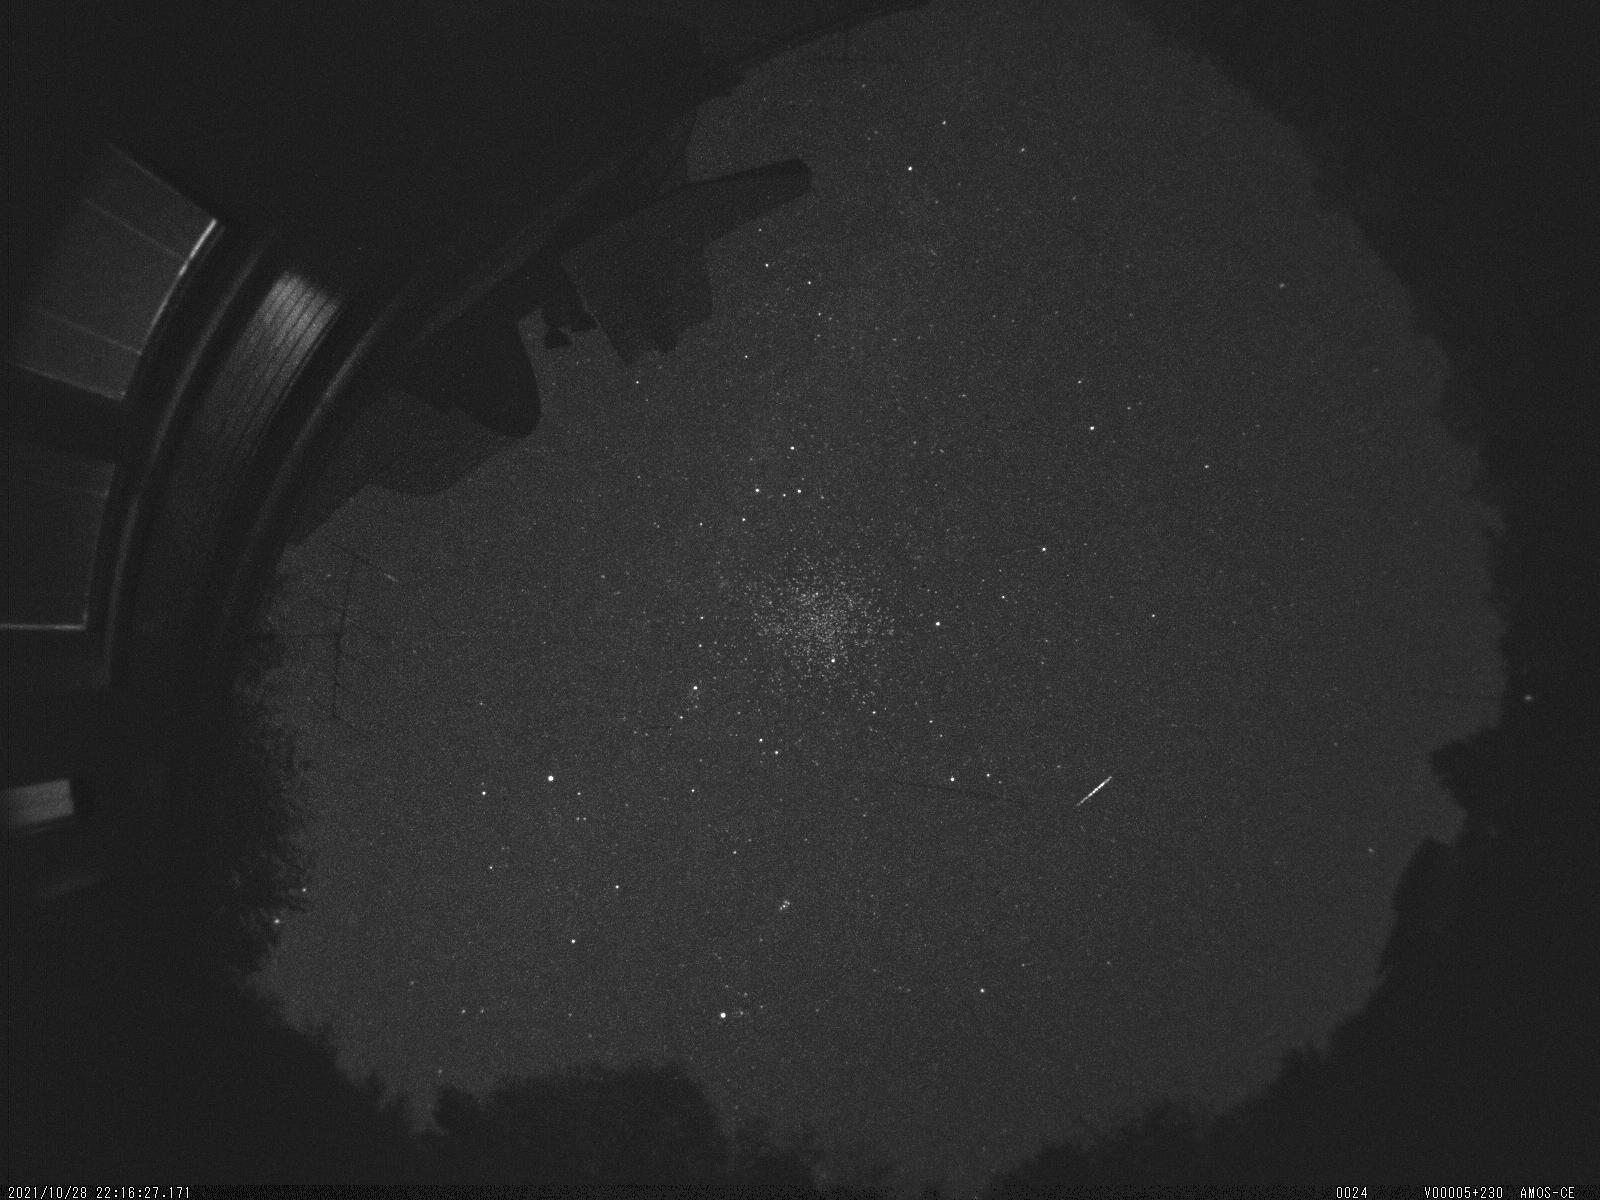Meteor: (1065, 765, 1117, 816)
